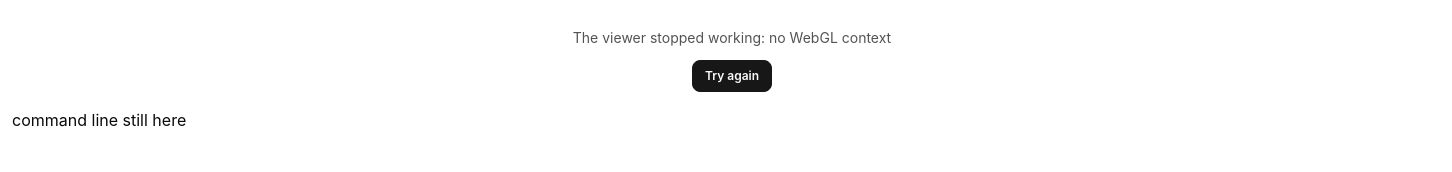
Scenario: ErrorBoundary › replaces only the named pane and re-mounts it on Try again
Expected: the message shows "The viewer stopped working: no WebGL context", x1=12 y1=12 x2=1451 y2=108
Expected: the text "command line still here" is shown, x1=12 y1=110 x2=186 y2=130
Click the button "Try again" at (732, 76), box x1=692 y1=60 x2=772 y2=92
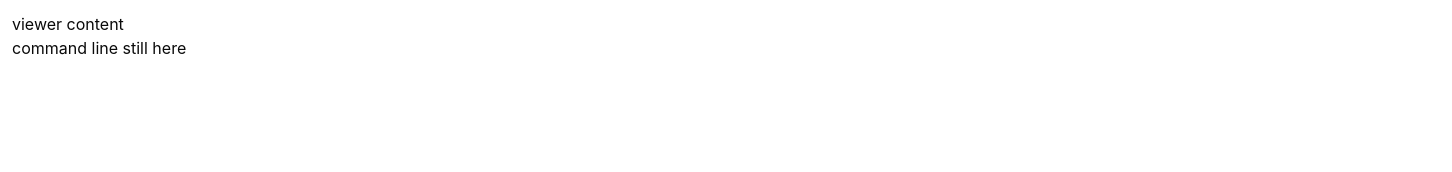
Now the text "viewer content" is shown, box x1=12 y1=14 x2=124 y2=34
Now the message "The viewer stopped working: no WebGL context Try again" is gone
